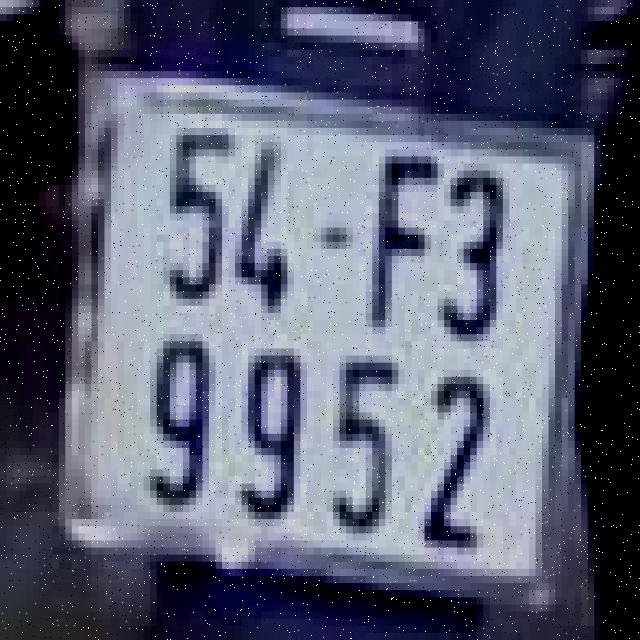2: (412, 359, 496, 544)
3: (438, 150, 510, 356)
4: (229, 121, 307, 320)
5: (154, 110, 238, 302), (329, 342, 402, 548)
9: (229, 334, 307, 534), (147, 331, 206, 501)
F: (346, 132, 444, 338)
